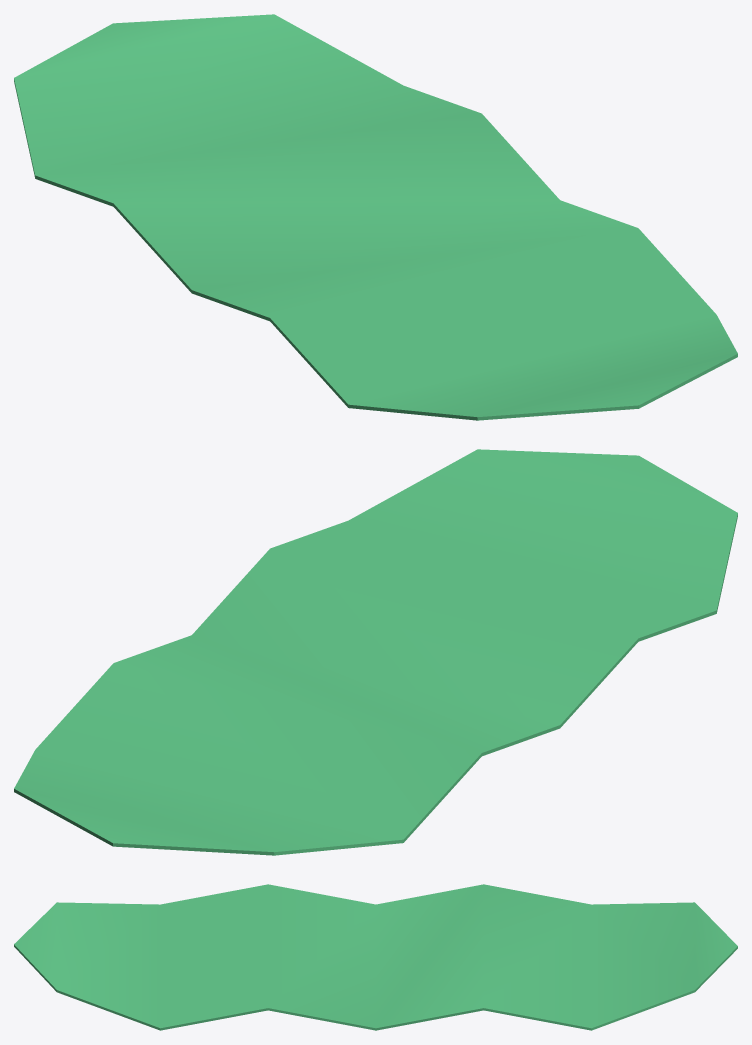
Rendered from lettuce.obj.
3 views of the same model, one above another, from view 1: azimuth 30°, elevation 25°; view 2: azimuth 150°, elevation 25°; view 3: azimuth 270°, elevation 25° (orthographic). The views are drawn at different scales.
Visible parts, largest first — view 1: lettuce; view 2: lettuce; view 3: lettuce.
Boxes of the visible parts, x1,y1,x2,y2 form: lettuce: (14, 14, 737, 420); lettuce: (14, 449, 737, 855); lettuce: (14, 884, 737, 1030).
Size of the model in its own units: 0.2733 by 0.0252 by 0.6756.
